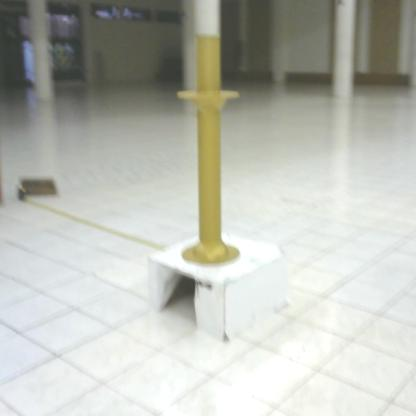pole: (176, 32, 247, 275)
